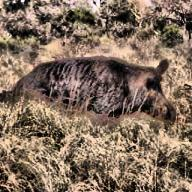boar: (0, 54, 176, 124)
